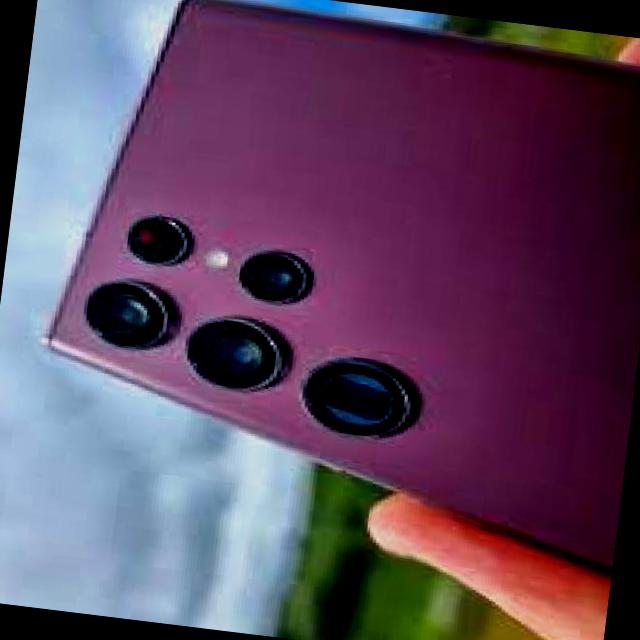lens_back: (293, 348, 428, 447), (178, 308, 294, 400), (73, 268, 186, 358), (232, 240, 320, 310), (120, 209, 198, 270)
phone: (15, 0, 640, 575)
